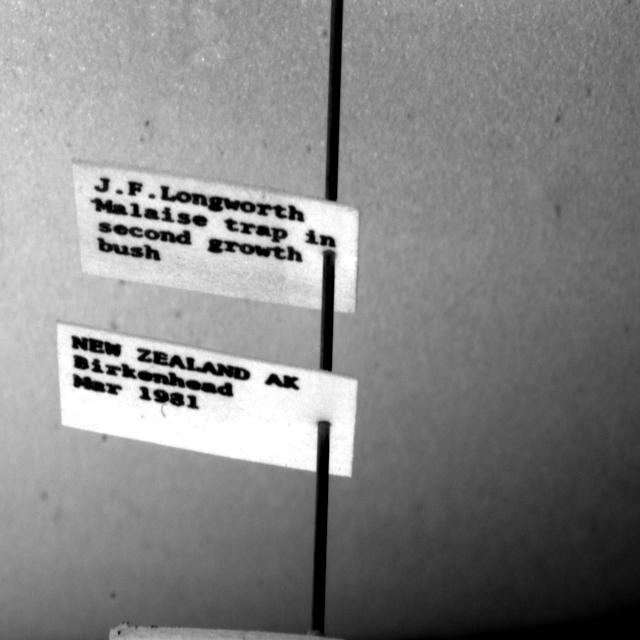typed_label: (58, 322, 358, 476), (72, 161, 359, 313)
